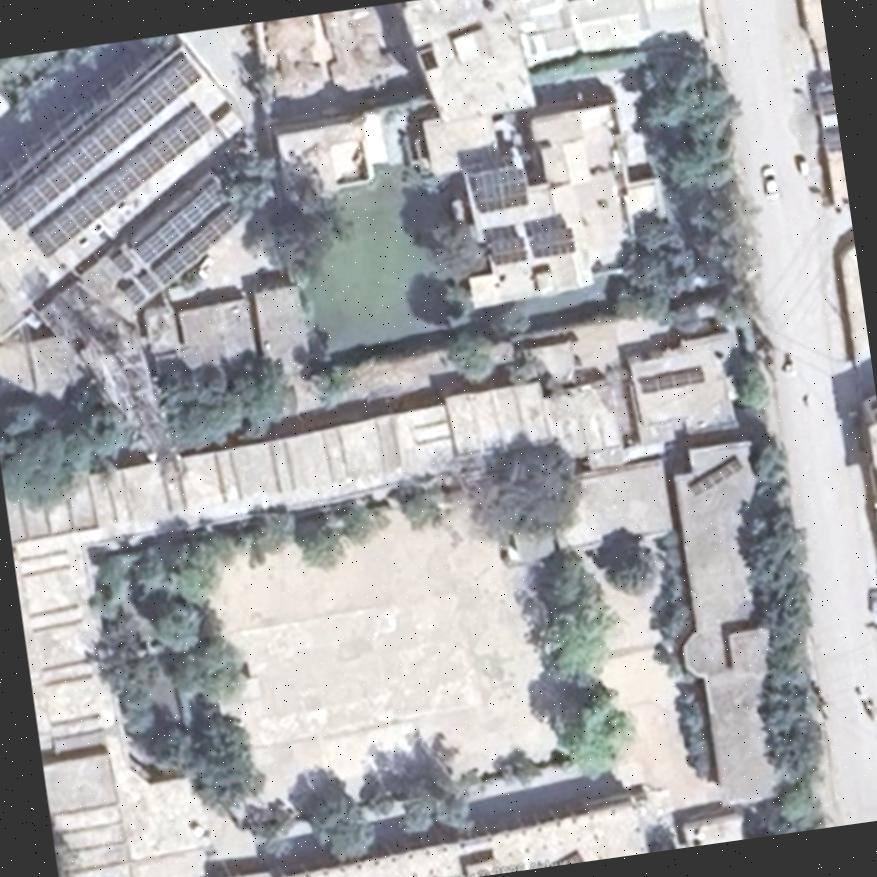Solarpanel: (0, 50, 203, 230), (33, 107, 206, 253), (131, 179, 225, 264), (154, 202, 243, 281), (687, 455, 742, 498), (476, 170, 527, 208), (640, 366, 703, 393), (532, 227, 576, 257), (489, 237, 525, 265), (117, 281, 141, 302), (135, 270, 157, 291), (107, 251, 130, 270)
